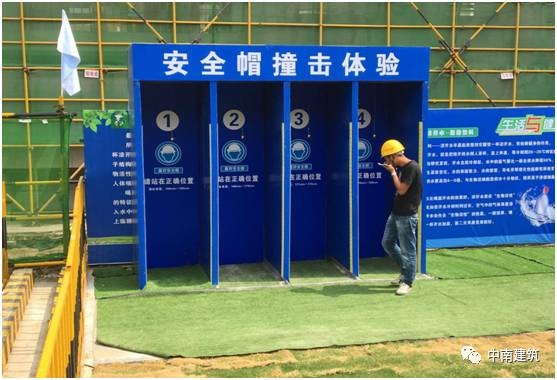yellow: (379, 137, 404, 167)
